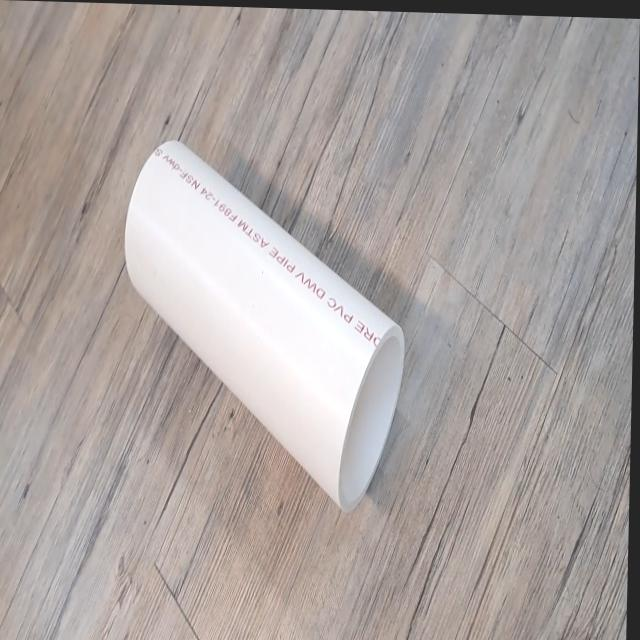CORAL: (117, 136, 415, 521)
